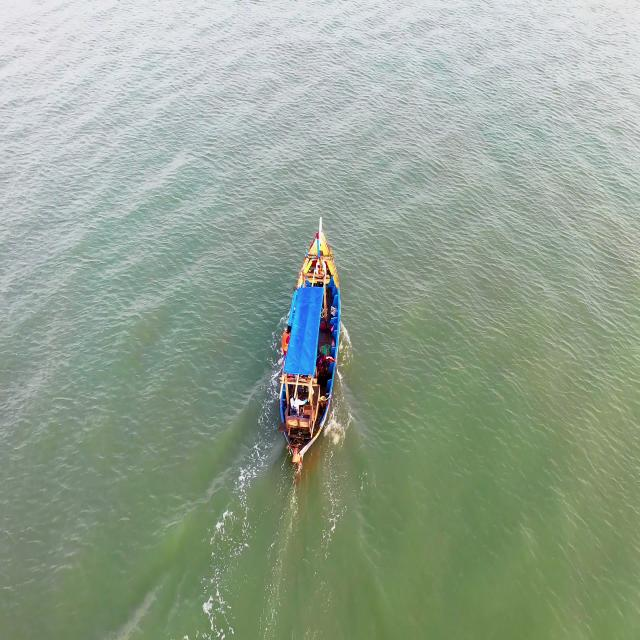ship: (277, 224, 341, 469)
